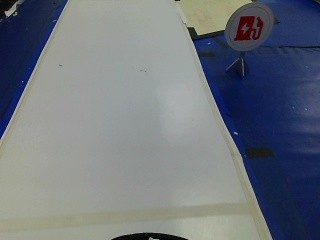battery: (223, 5, 272, 51)
